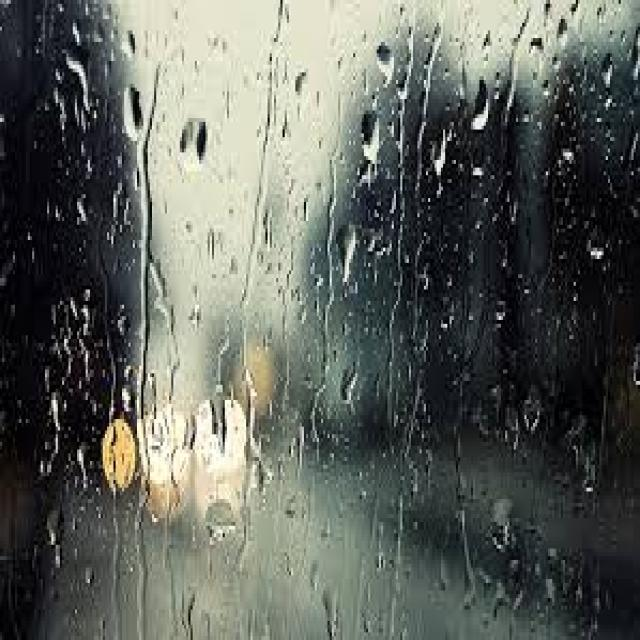raindrop: (170, 90, 218, 194), (350, 98, 392, 187), (120, 74, 152, 162), (464, 66, 498, 148), (427, 114, 458, 194)
